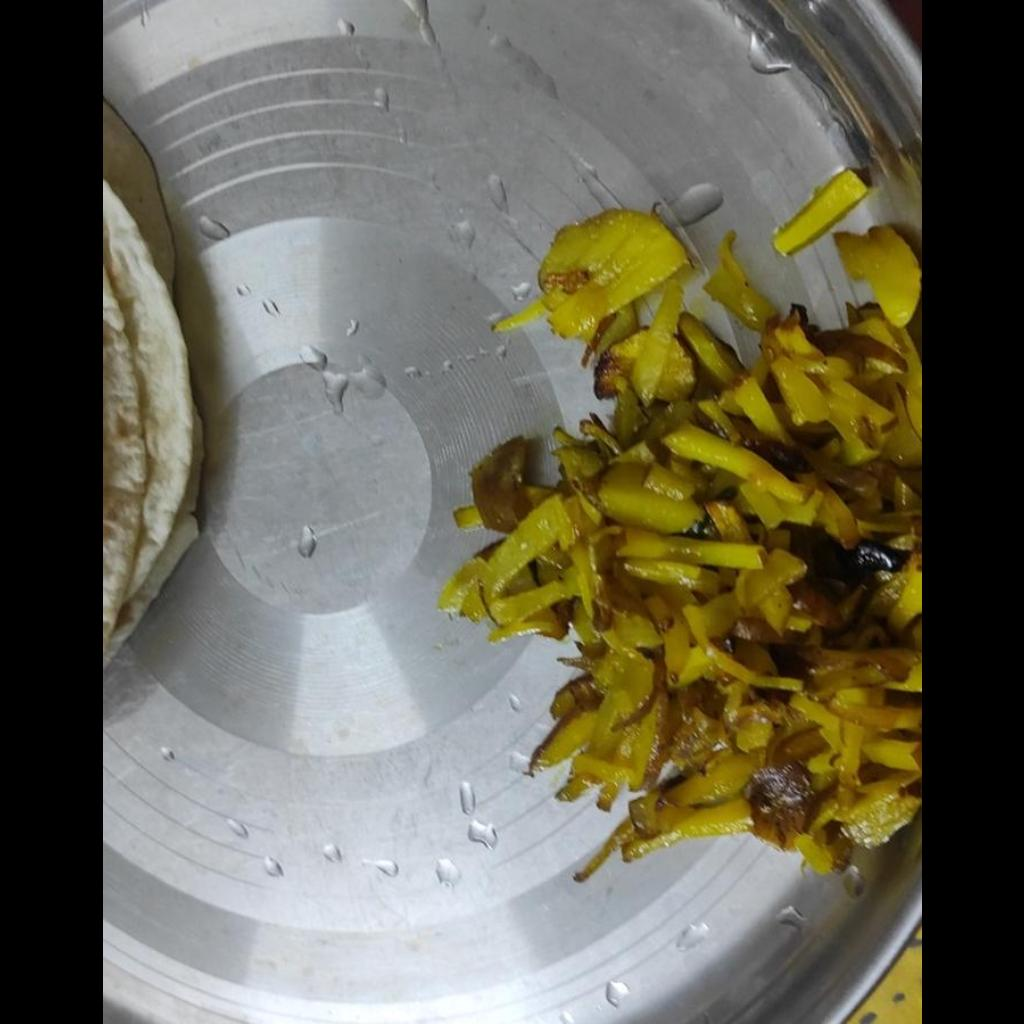ruti: (102, 179, 193, 654)
vaji: (439, 160, 920, 881)
